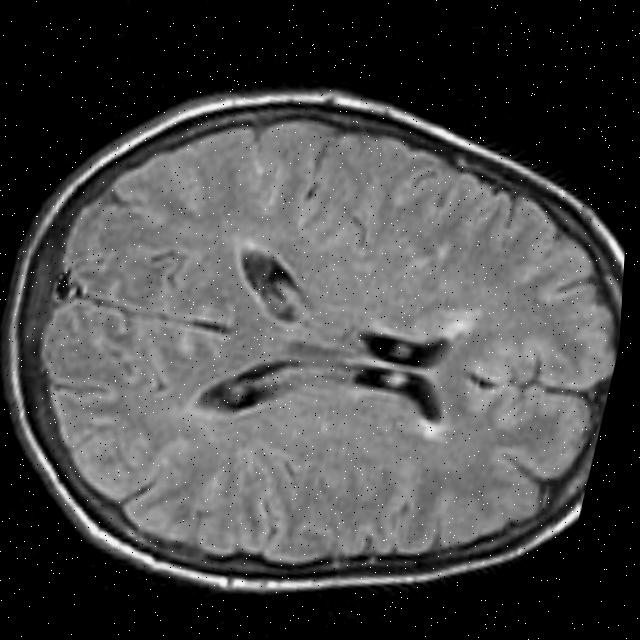NoTumor: (0, 41, 637, 640)
